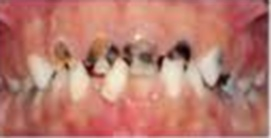Caries: (42, 38, 196, 75)
